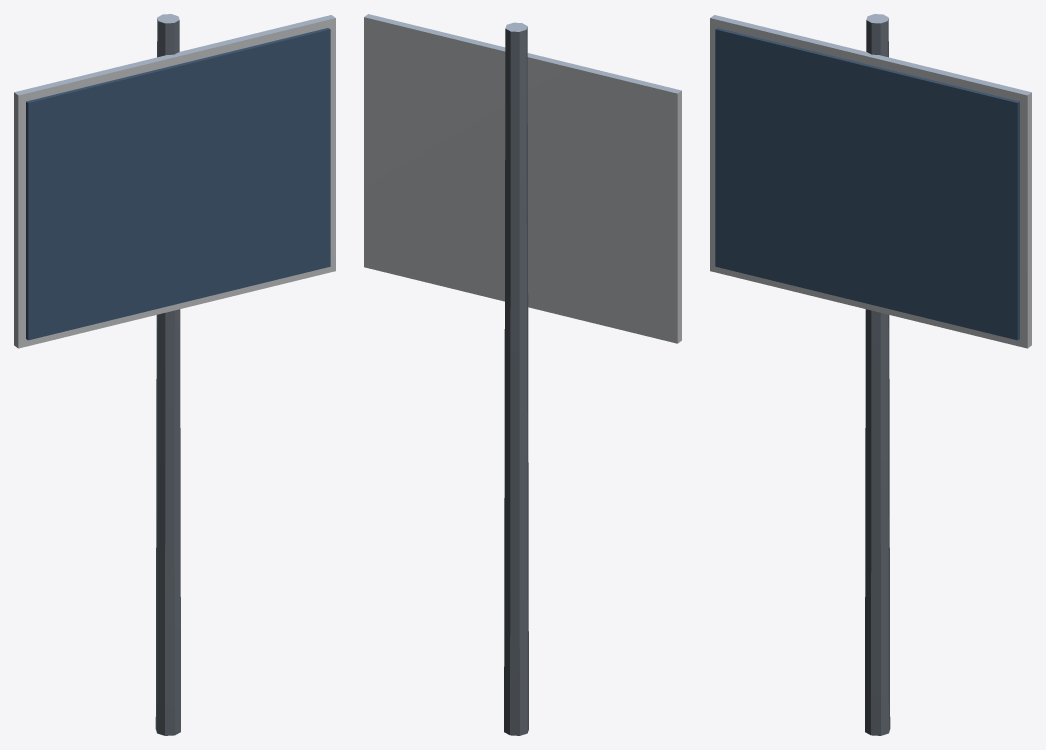
The model's file is sign_info.glb.
The picture shows the model from 3 angles, left to right: view 1: azimuth 30°, elevation 25°; view 2: azimuth 150°, elevation 25°; view 3: azimuth 330°, elevation 25°; orthographic projection.
Visible parts, largest first — view 1: Panel, Prop; view 2: Prop; view 3: Panel, Prop.
Part boxes in pixels (x1,y1,x2,y2): Panel: (26, 28, 330, 340); Prop: (14, 14, 335, 735); Prop: (364, 14, 681, 735); Panel: (715, 28, 1019, 340); Prop: (710, 14, 1031, 735).
Size of the model in its own units: 1.26 by 2.7 by 0.12.
